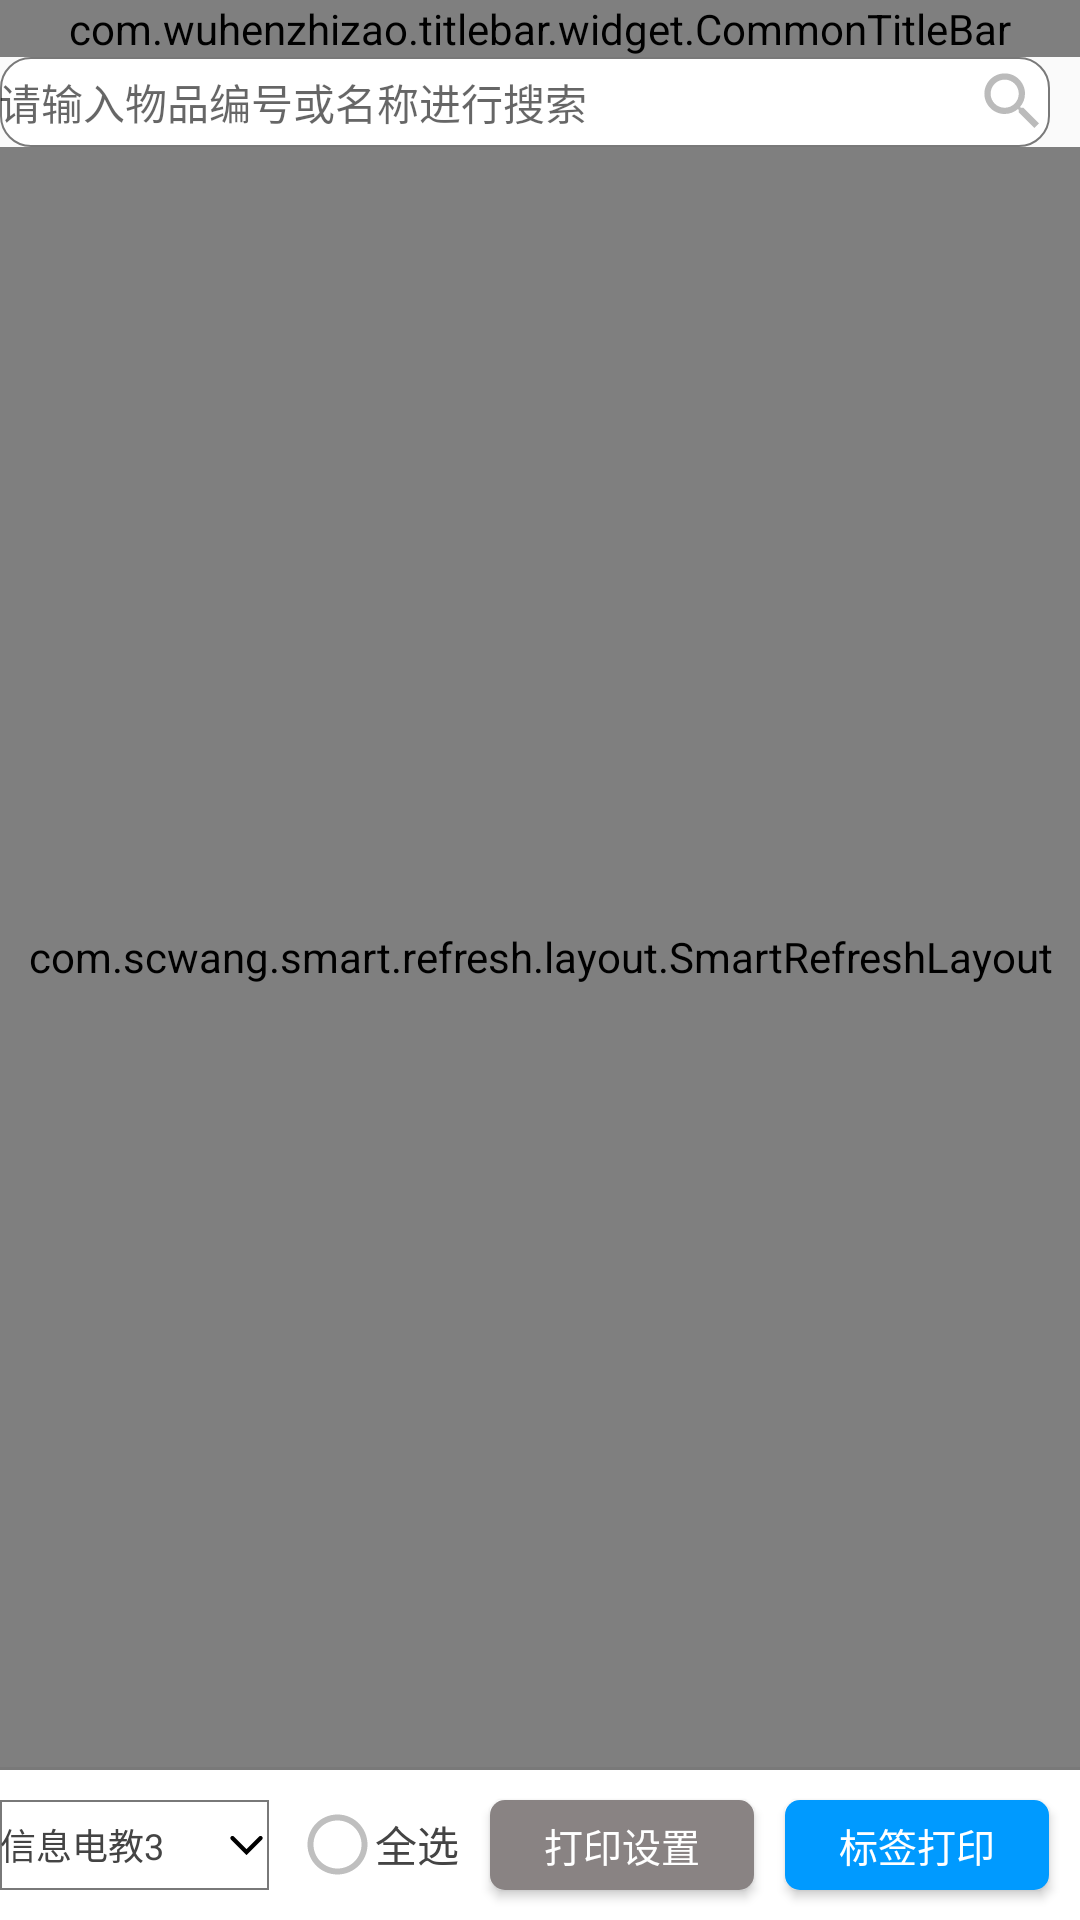

Where icons sit on this 1080 × 1920 app screen, as detection(x1, y1, x2, y2):
search: detection(984, 73, 1039, 128)
